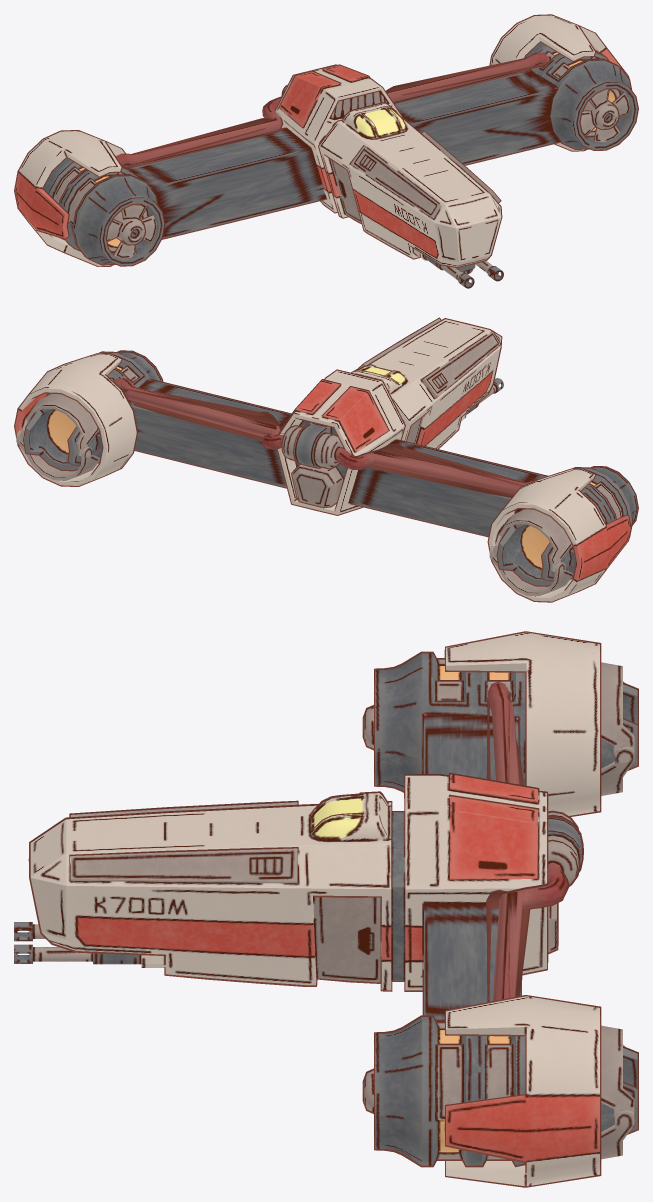
The model's file is spaceshipactual.glb.
The picture shows the model from 3 angles, top to bottom: view 1: azimuth 30°, elevation 25°; view 2: azimuth 150°, elevation 25°; view 3: azimuth 270°, elevation 25°; orthographic projection. The views are drawn at different scales.
Parts seen in each view (by area): view 1: Ship_Ship_0.001, Ship, Ship_Temen_0.001, Vint.002, Vint.002_Ship_0.001, Gun_Ship_0.001; view 2: Ship_Ship_0.001, Ship, Ship_Temen_0.001, StopU.002_Ship_0.001, StopU.002, StopD.002_Ship_0.001, StopD.002; view 3: Ship, Ship_Ship_0.001, Ship_Temen_0.001, StopU.002, StopU.002_Ship_0.001, Gun, StopD.002, StopD.002_Ship_0.001.
Part boxes in pixels (x1,y1,x2,y2): Ship_Ship_0.001: (15,70,478,266); Ship: (314,14,638,264); Ship_Temen_0.001: (14,69,471,267); Vint.002: (580,89,630,142); Vint.002_Ship_0.001: (107,203,156,258); Gun_Ship_0.001: (413,248,474,288); Ship_Ship_0.001: (303,324,637,601); Ship: (14,317,470,510); Ship_Temen_0.001: (309,323,638,602); StopU.002_Ship_0.001: (493,509,571,571); StopU.002: (20,394,98,456); StopD.002_Ship_0.001: (489,545,573,596); StopD.002: (16,430,99,480); Ship: (28,793,638,1187); Ship_Ship_0.001: (30,632,637,859); Ship_Temen_0.001: (28,631,638,940); StopU.002: (601,1025,634,1117); StopU.002_Ship_0.001: (601,662,634,754); Gun: (14,944,165,967); StopD.002: (601,1110,634,1159); StopD.002_Ship_0.001: (601,747,634,795).
Bounding box in the file's own units: 6.17 × 1.34 × 3.66.
4 materials, 2 textured.
